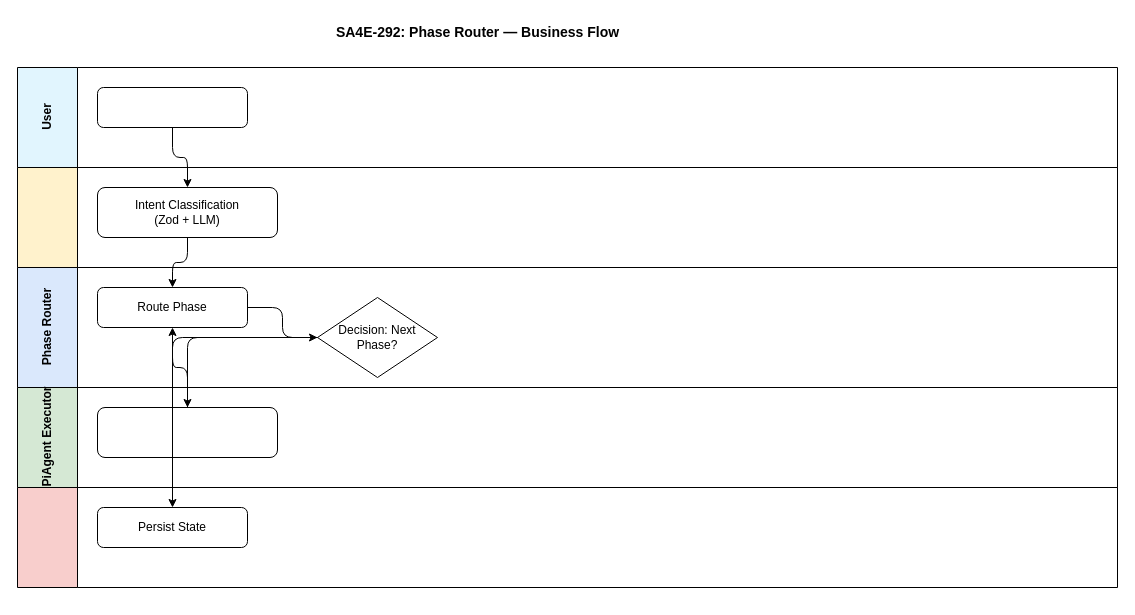
This 1135x615 diagram has some shape labels left out. Here are the shapes that lost their labels. From the top down, the box of each, then its label:
(96, 86, 248, 128): Provide Input / Ticket
(16, 166, 1118, 268): PiWorkflow Engine
(96, 406, 278, 458): Execute Agent Turn
(16, 486, 1118, 588): RemoteCheckpointer
